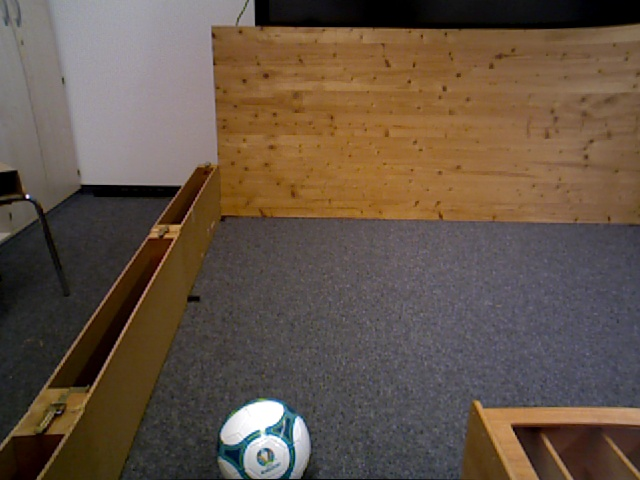kick: (218, 400, 313, 480)
